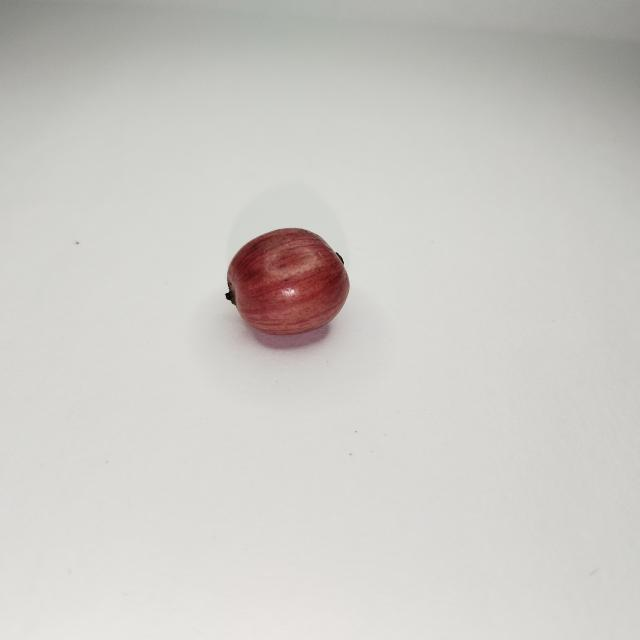Sano: (226, 228, 349, 346)
